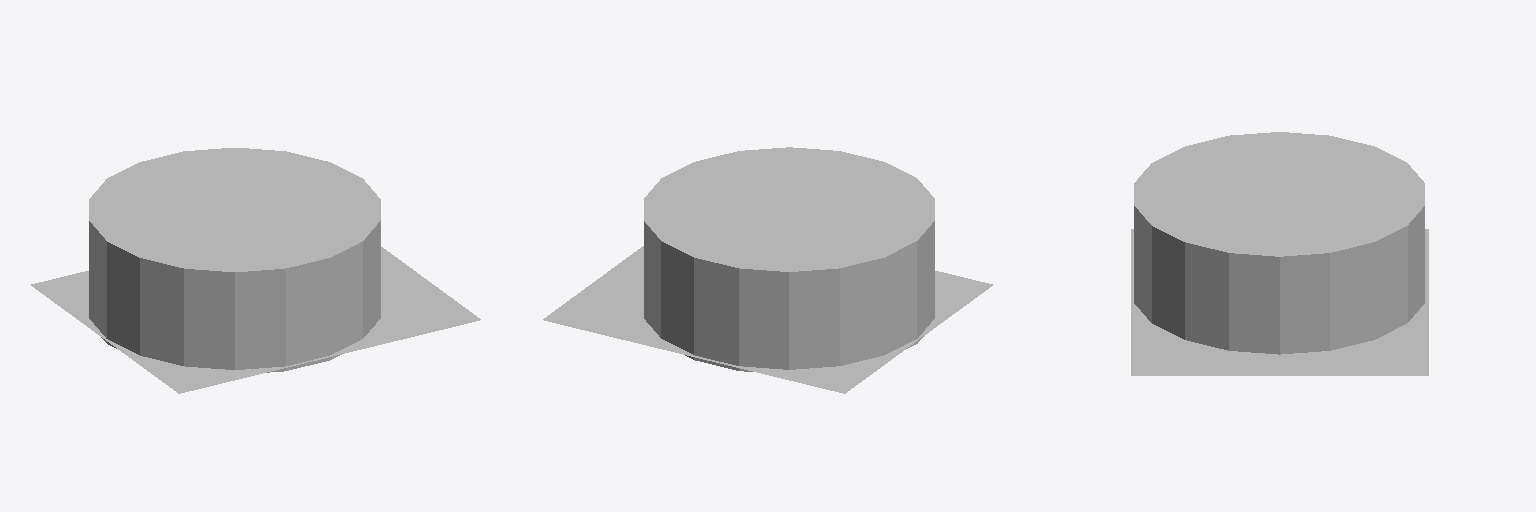
Rendered from sea obj.obj.
3 renders of one model, left to right at view 1: azimuth 30°, elevation 25°; view 2: azimuth 150°, elevation 25°; view 3: azimuth 270°, elevation 25°, orthographic.
Visible parts, largest first — view 1: sea, Plane01; view 2: sea, Plane01; view 3: sea, Plane01.
Boxes of the visible parts, x1,y1,x2,y2 form: sea: [89, 148, 380, 372]; Plane01: [31, 247, 480, 393]; sea: [644, 147, 934, 371]; Plane01: [543, 246, 992, 393]; sea: [1134, 132, 1424, 354]; Plane01: [1131, 229, 1428, 375].
Bounding box in the file's own units: 555 × 180 × 473.